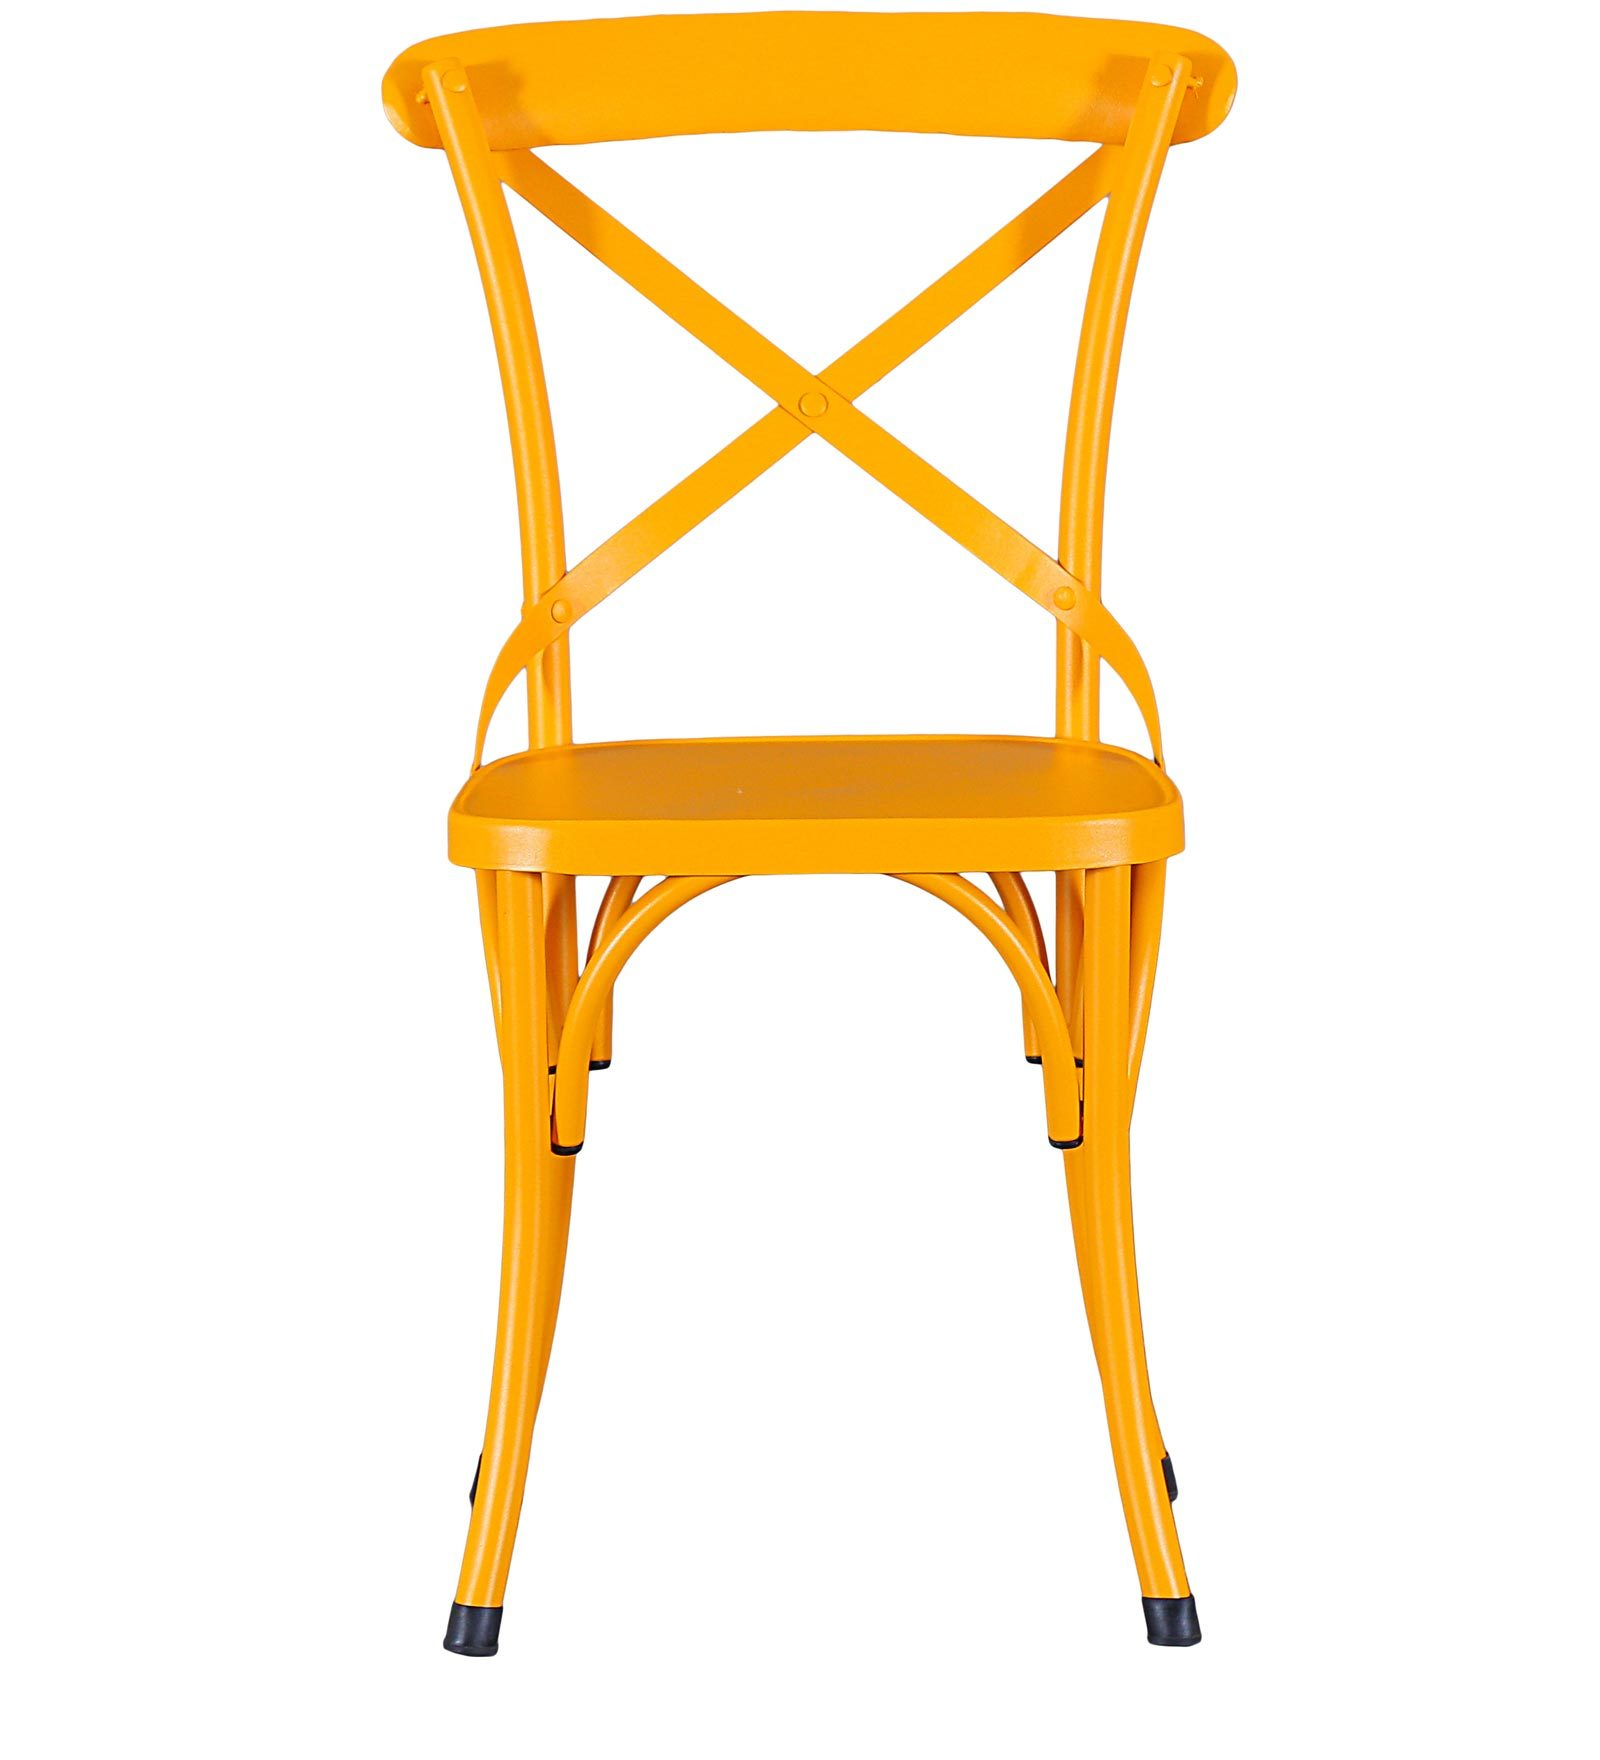Fabian Metal Chair in Yellow Color by Bohemiana: (359, 2, 1274, 1677)
